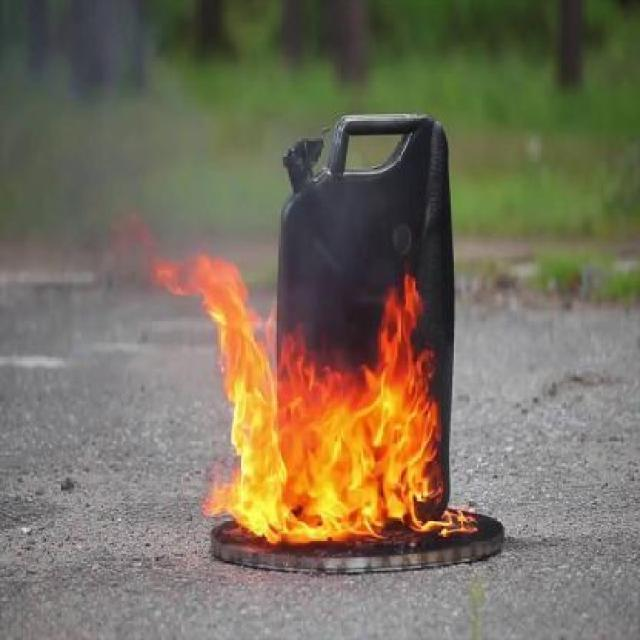Fire: (168, 253, 444, 554)
